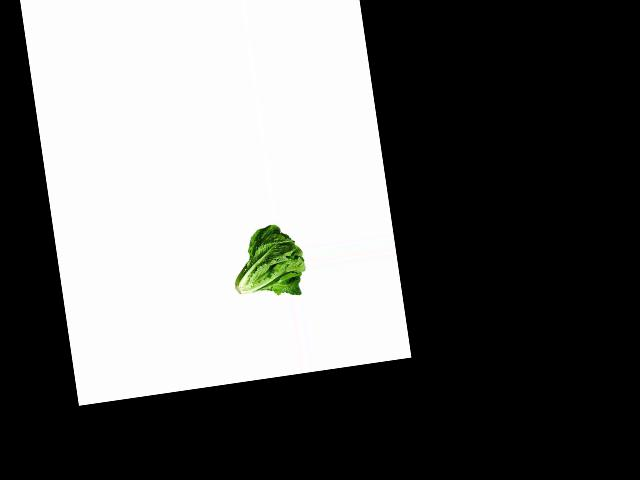lettuce: (223, 219, 309, 303)
